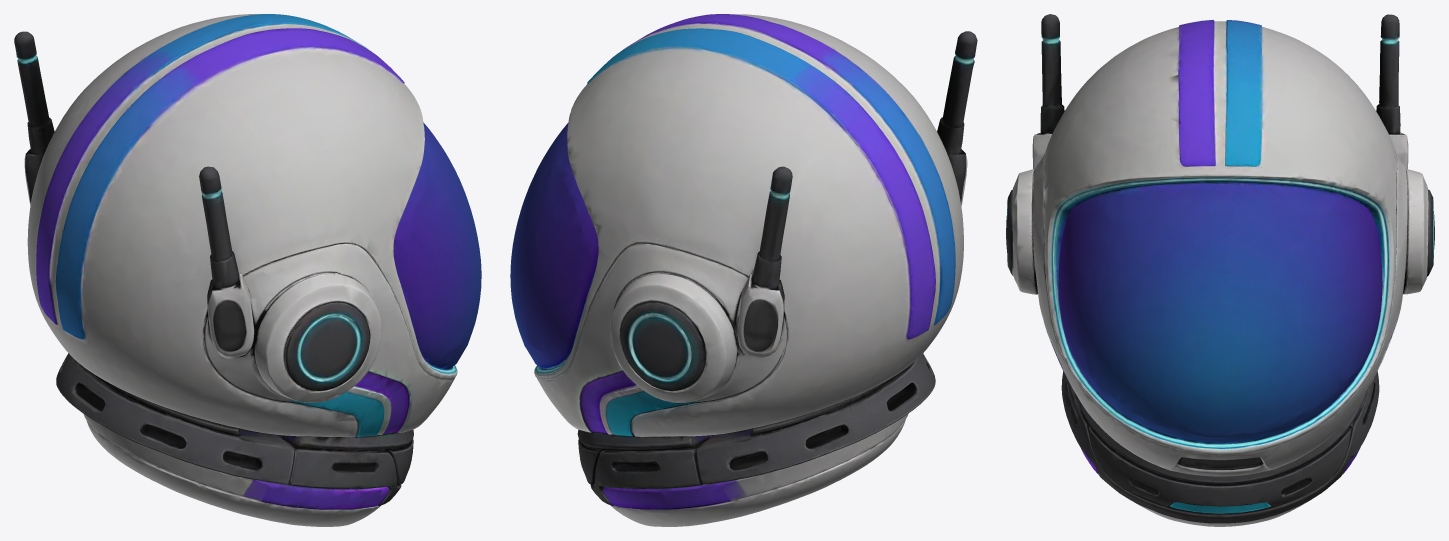
The model's file is helmet.glb.
The picture shows the model from 3 angles, left to right: view 1: azimuth 30°, elevation 25°; view 2: azimuth 150°, elevation 25°; view 3: azimuth 270°, elevation 25°; orthographic projection. The views are drawn at different scales.
Parts seen in each view (by area): view 1: tripo_node_d5256d77-ea51-4278-972a-9af9f19605c3; view 2: tripo_node_d5256d77-ea51-4278-972a-9af9f19605c3; view 3: tripo_node_d5256d77-ea51-4278-972a-9af9f19605c3.
Part boxes in pixels (x1,y1,x2,y2): tripo_node_d5256d77-ea51-4278-972a-9af9f19605c3: (14, 14, 481, 526); tripo_node_d5256d77-ea51-4278-972a-9af9f19605c3: (510, 14, 977, 526); tripo_node_d5256d77-ea51-4278-972a-9af9f19605c3: (1006, 14, 1434, 526).
Size of the model in its own units: 0.8546 by 1 by 0.8635.
1 material, 1 textured.
